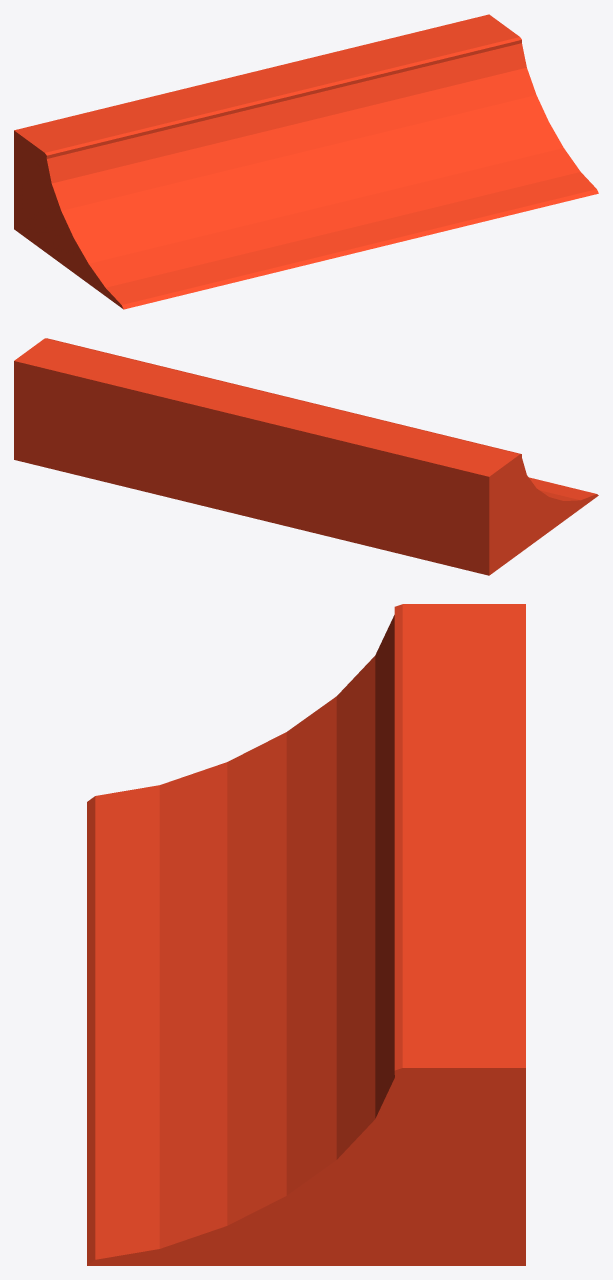
File: SM_Skate_Ramp_City.fbx
3 views of the same model, one above another, from view 1: azimuth 30°, elevation 25°; view 2: azimuth 150°, elevation 25°; view 3: azimuth 270°, elevation 25° (orthographic). The views are drawn at different scales.
Visible parts, largest first — view 1: SM_Skate_Ramp_City; view 2: SM_Skate_Ramp_City; view 3: SM_Skate_Ramp_City.
Boxes of the visible parts, left/top/right/bottom form: SM_Skate_Ramp_City: left=14, top=14, right=598, bottom=309; SM_Skate_Ramp_City: left=14, top=338, right=598, bottom=575; SM_Skate_Ramp_City: left=87, top=604, right=525, bottom=1265.
Size of the model in its own units: 5 by 0.9945 by 2.
